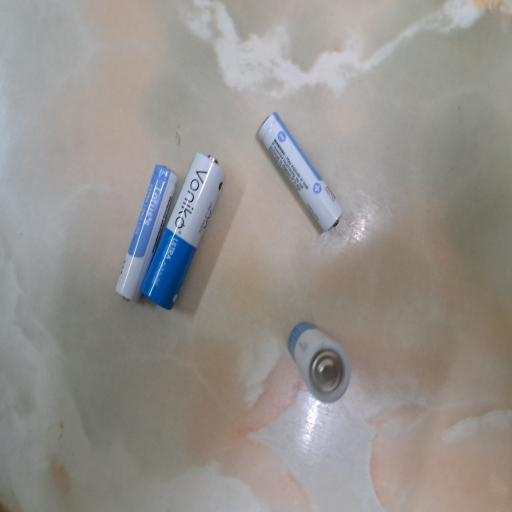battery: (142, 153, 227, 311), (258, 110, 344, 232), (114, 165, 181, 301), (288, 323, 350, 403)
